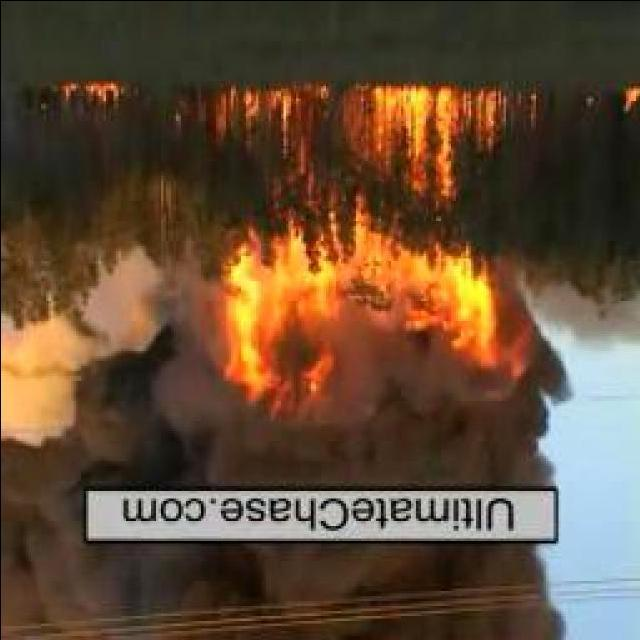Fire: (208, 89, 536, 394), (52, 81, 130, 111), (617, 85, 640, 120)
